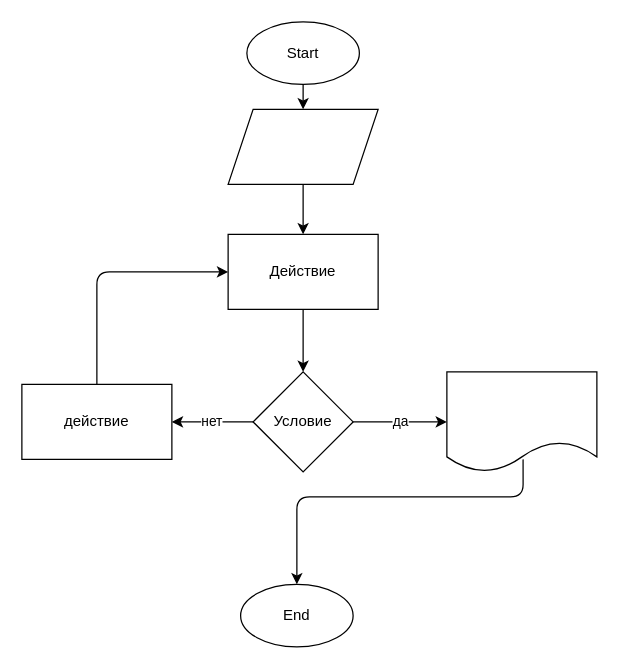
Some shapes in this 619 by 669 pixel diagram are drawn without their labels. Each missing label, with the box of its shape:
Ввод данных: (227, 108, 378, 184)
Если условие выполняется, то печать: (446, 371, 597, 472)
